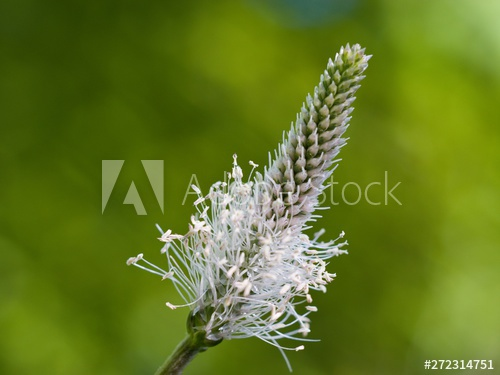buckhorn plantain: (184, 33, 370, 347)
